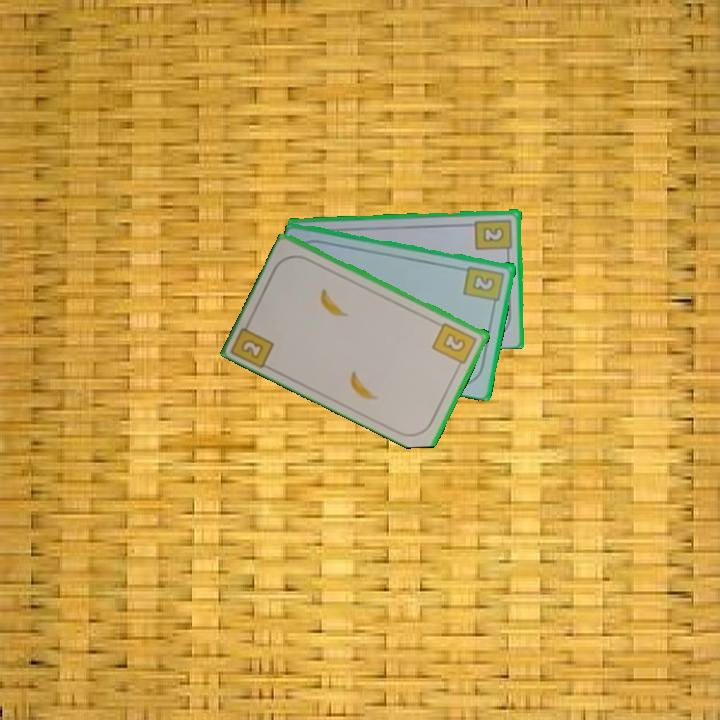2b: (429, 319, 480, 372), (230, 315, 277, 370), (461, 262, 507, 310), (472, 216, 515, 258)
